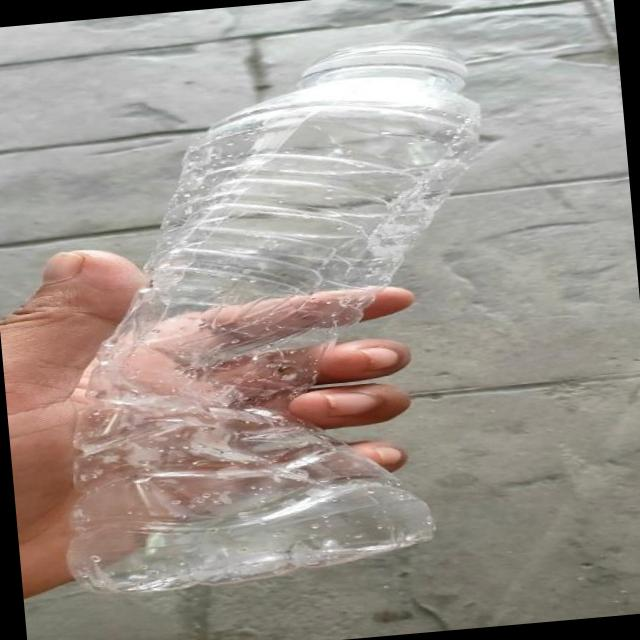plastic_bottle: (22, 36, 520, 600)
